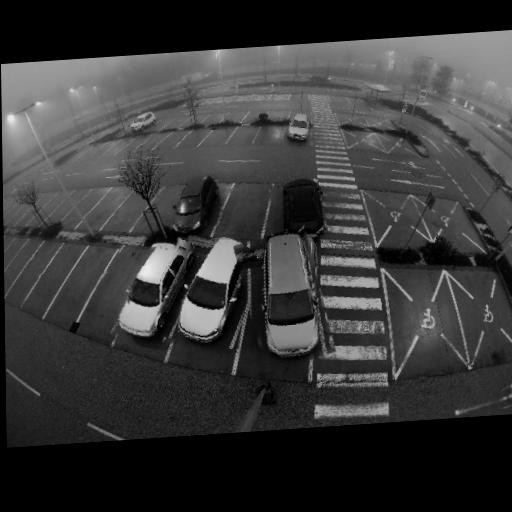busy: (240, 226, 330, 371), (165, 232, 252, 352), (111, 243, 186, 341), (271, 177, 326, 245), (164, 174, 224, 235), (282, 110, 314, 147), (127, 113, 155, 135)
free: (99, 271, 132, 314), (228, 199, 264, 228), (67, 266, 96, 294), (45, 260, 69, 290), (155, 186, 181, 210), (114, 204, 138, 227), (26, 256, 48, 278), (77, 192, 94, 219), (259, 128, 282, 145), (143, 131, 159, 150), (57, 200, 74, 217), (98, 200, 117, 215), (235, 130, 255, 144), (207, 132, 228, 145), (125, 138, 142, 154), (225, 112, 243, 124), (185, 134, 201, 145), (163, 137, 178, 147), (246, 114, 259, 123), (206, 116, 220, 124)
